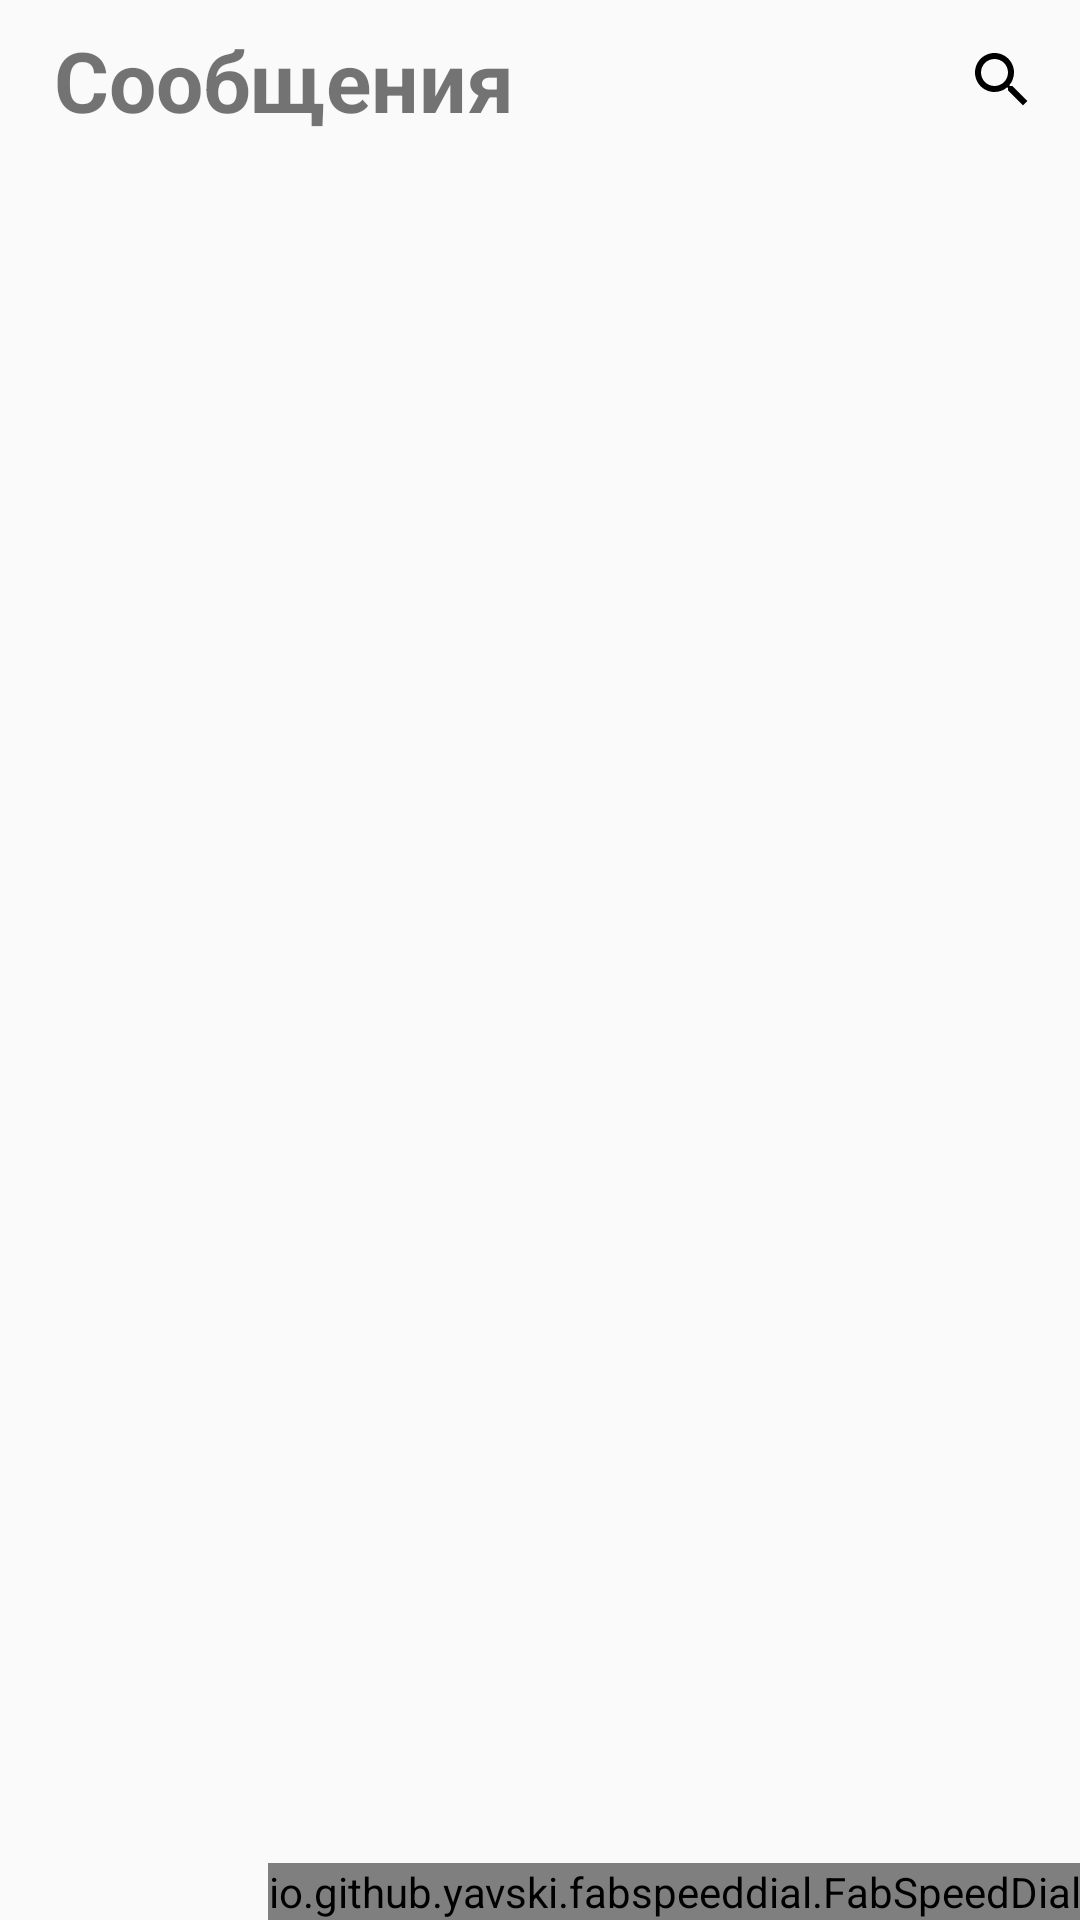

Locate icon controls on the screen. Image size 1080×1920, boxes as (x1, y1, x2, y2).
search: (975, 53, 1027, 105)
